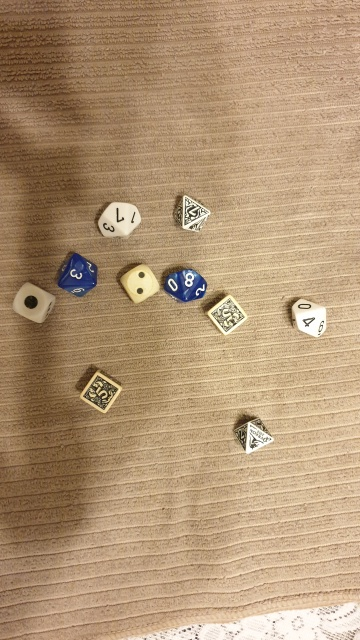d10-3: (54, 246, 105, 305)
d10-4: (284, 292, 331, 343)
d10-7: (91, 200, 145, 243)
d10-8: (160, 262, 208, 306)
d6-1: (10, 281, 58, 327)
d6-2: (116, 260, 161, 310)
d6p-5: (75, 368, 123, 417), (201, 290, 248, 340)
d8p-1: (231, 415, 276, 459)
d8p-7: (169, 190, 211, 238)
